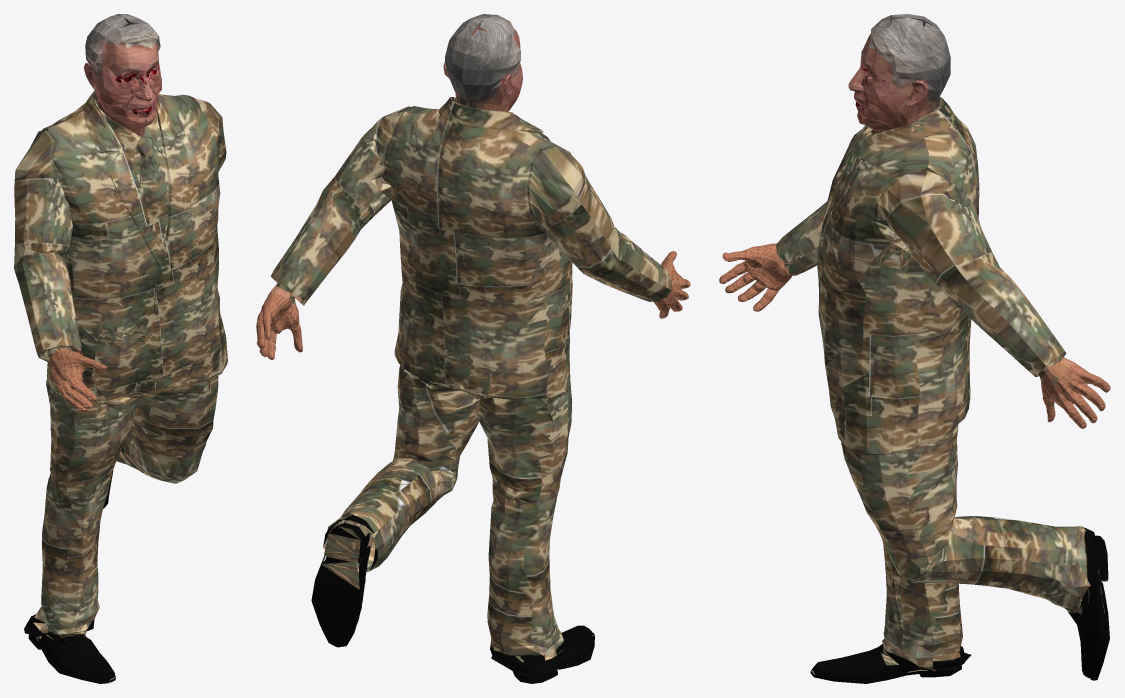
File: zombie_000007.obj
3 views of the same model, side by side, from view 1: azimuth 30°, elevation 25°; view 2: azimuth 150°, elevation 25°; view 3: azimuth 270°, elevation 25° (orthographic). The views are drawn at different scales.
Visible parts, largest first — view 1: Suit_coat_orig_9___De, objGeo_Hea_orig_9___D; view 2: Suit_coat_orig_9___De, objGeo_Hea_orig_9___D; view 3: Suit_coat_orig_9___De, objGeo_Hea_orig_9___D.
Part boxes in pixels (box(x1,y1,x2,y2)): Suit_coat_orig_9___De: box(14, 90, 227, 683); objGeo_Hea_orig_9___D: box(84, 14, 161, 136); Suit_coat_orig_9___De: box(256, 97, 690, 683); objGeo_Hea_orig_9___D: box(443, 14, 522, 111); Suit_coat_orig_9___De: box(719, 97, 1110, 683); objGeo_Hea_orig_9___D: box(848, 14, 950, 134).
Bounding box in the file's own units: 0.8805 × 1.86 × 0.959.
